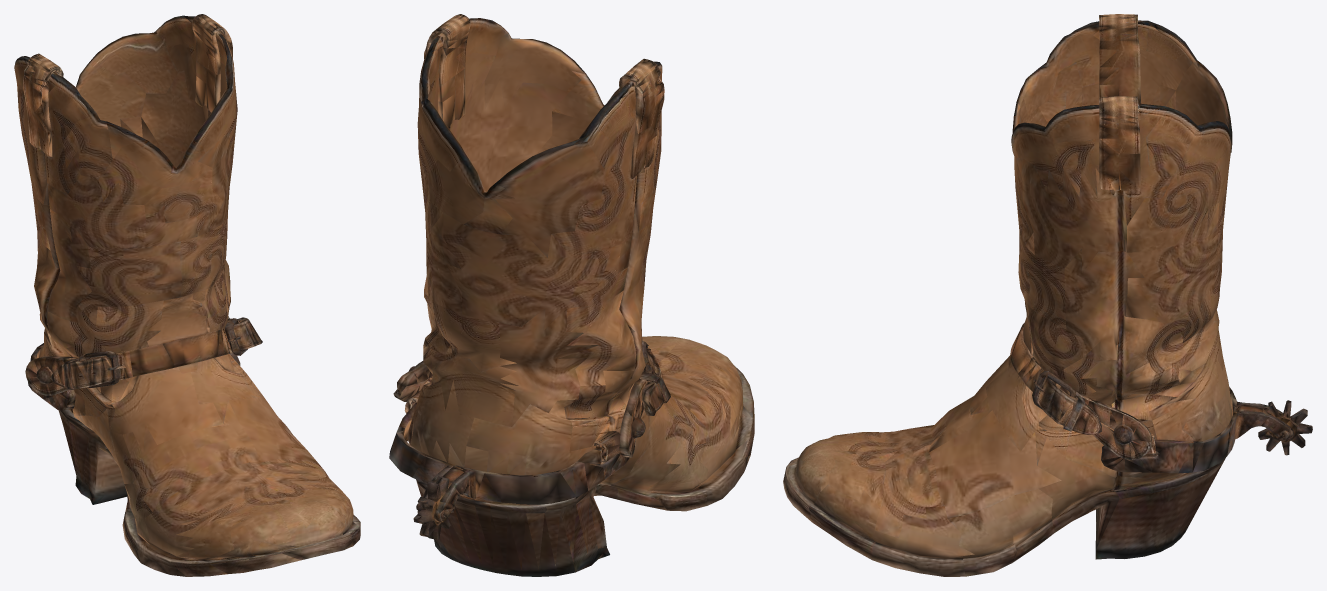
Rendered from spurs-left.glb.
3 views of the same model, side by side, from view 1: azimuth 30°, elevation 25°; view 2: azimuth 150°, elevation 25°; view 3: azimuth 270°, elevation 25° (orthographic). The views are drawn at different scales.
Parts seen in each view (by area): view 1: spurs; view 2: spurs; view 3: spurs.
Boxes of the visible parts, bbox=[...] form: spurs: bbox=[14, 14, 360, 576]; spurs: bbox=[389, 14, 754, 576]; spurs: bbox=[783, 14, 1312, 576].
Size of the model in its own units: 0.22 by 0.42 by 0.44.
1 material, 1 textured.
